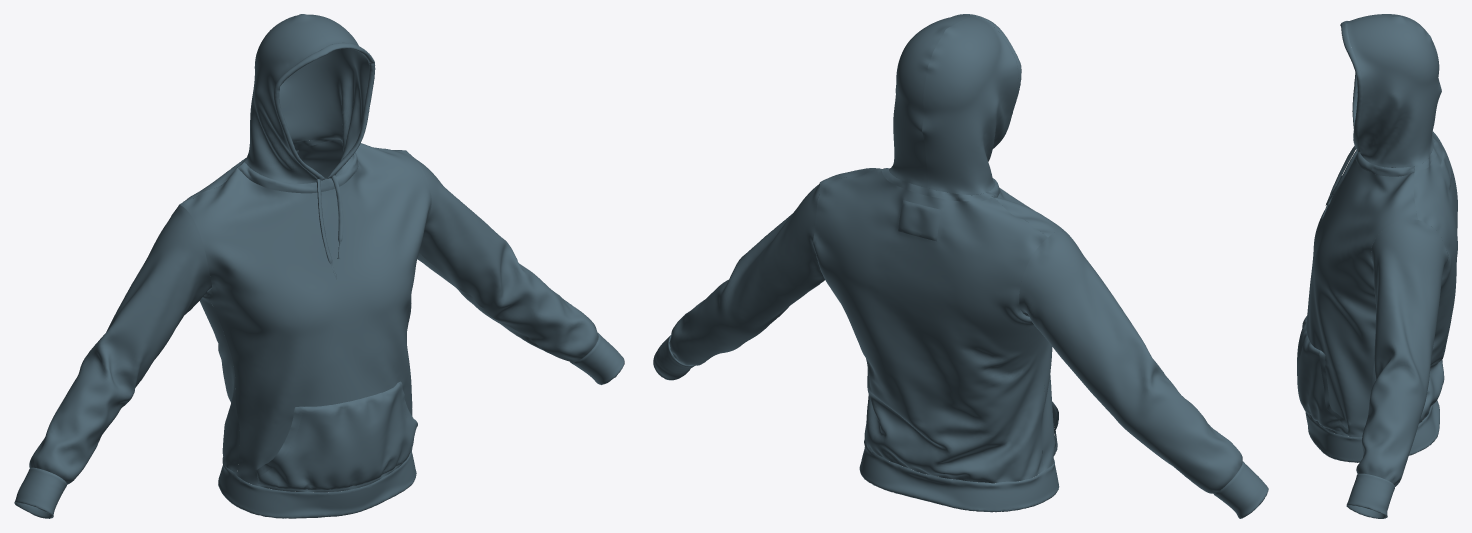
File: hoodie-brock.glb
3 renders of one model, left to right at view 1: azimuth 30°, elevation 25°; view 2: azimuth 150°, elevation 25°; view 3: azimuth 270°, elevation 25°, orthographic. The views are drawn at different scales.
Visible parts, largest first — view 1: Hooodie, 2_low; view 2: Hooodie; view 3: Hooodie, 2_low.
Part boxes in pixels (<box>): Hooodie: <box>14,14,624,518</box>; 2_low: <box>256,175,417,490</box>; Hooodie: <box>653,14,1268,518</box>; Hooodie: <box>1305,14,1457,518</box>; 2_low: <box>1297,146,1357,434</box>.
Size of the model in its own units: 2.45 by 1.8 by 0.6358.
